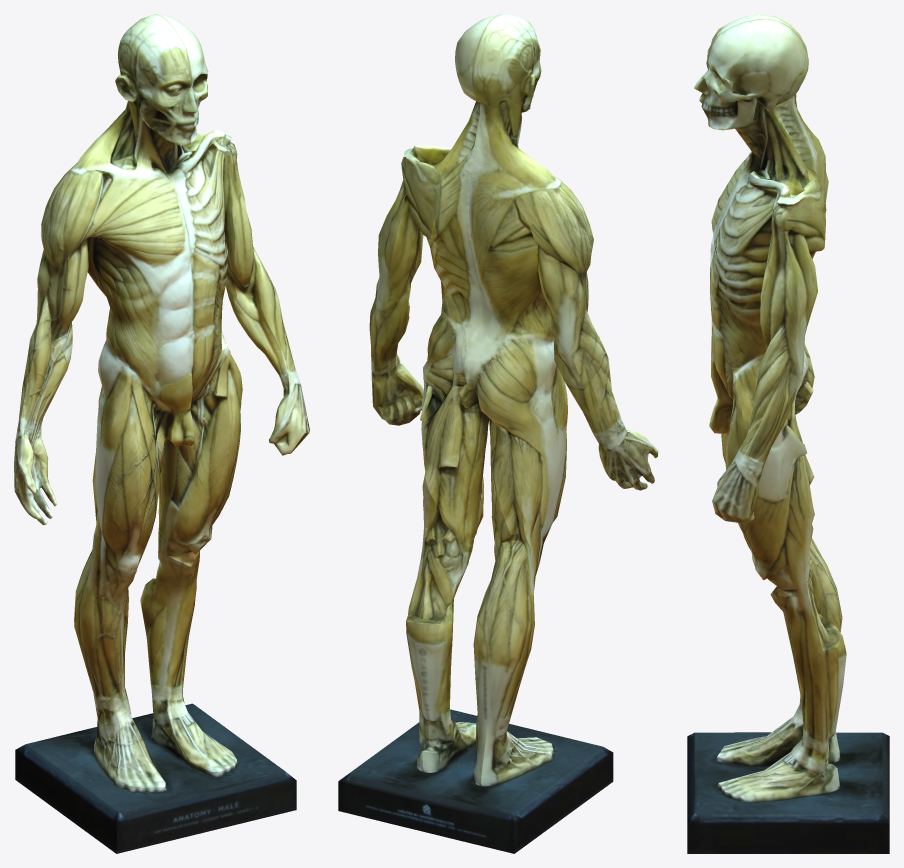
File: sf-ekershe-male-02b1da.glb
The picture shows the model from 3 angles, left to right: view 1: azimuth 30°, elevation 25°; view 2: azimuth 150°, elevation 25°; view 3: azimuth 270°, elevation 25°; orthographic projection. The views are drawn at different scales.
Visible parts, largest first — view 1: Object_2; view 2: Object_2; view 3: Object_2.
Boxes of the visible parts, x1,y1,x2,y2 form: Object_2: (14, 14, 309, 853); Object_2: (338, 14, 658, 853); Object_2: (687, 14, 889, 853).
Size of the model in its own units: 36.39 by 95.64 by 22.26.
1 material, 1 textured.
